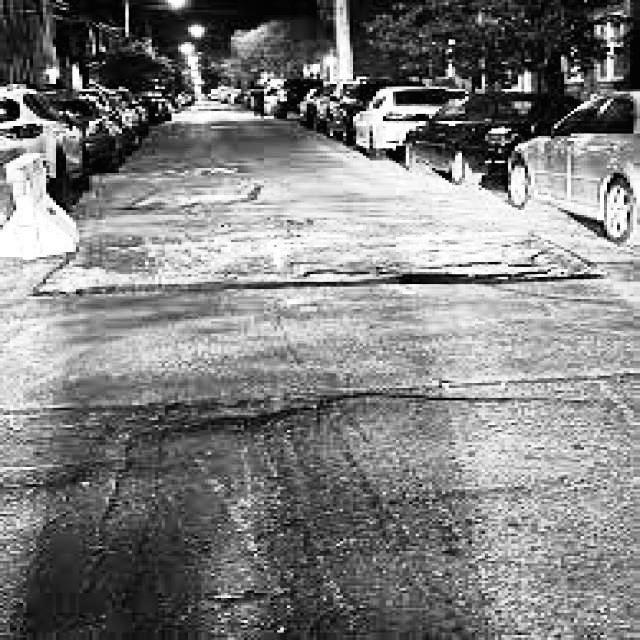Pothole: (103, 228, 588, 294), (132, 163, 267, 213)
